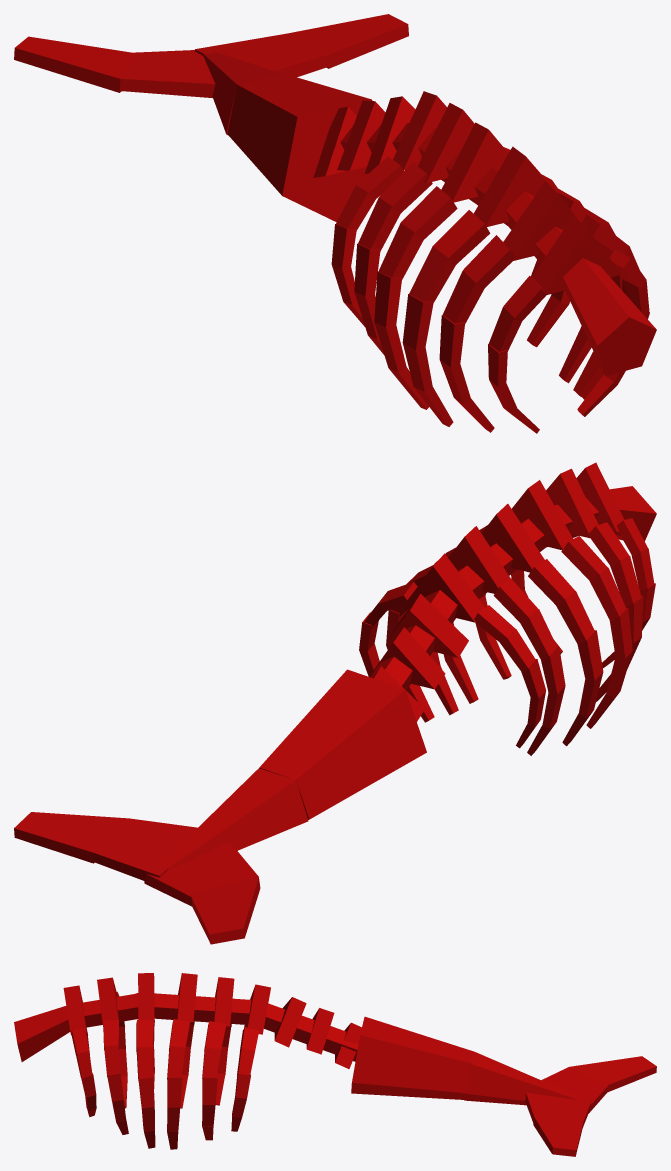
The model's file is SM_Prop_Whale_Skeleton_01_Collision.gltf.
3 renders of one model, top to bottom at view 1: azimuth 30°, elevation 25°; view 2: azimuth 150°, elevation 25°; view 3: azimuth 270°, elevation 25°, orthographic. The views are drawn at different scales.
Visible parts, largest first — view 1: SM_Prop_Whale_Skeleton_01_Collision; view 2: SM_Prop_Whale_Skeleton_01_Collision; view 3: SM_Prop_Whale_Skeleton_01_Collision.
Part boxes in pixels (x1,y1,x2,y2): SM_Prop_Whale_Skeleton_01_Collision: [14, 14, 656, 433]; SM_Prop_Whale_Skeleton_01_Collision: [14, 462, 656, 944]; SM_Prop_Whale_Skeleton_01_Collision: [14, 973, 656, 1156].
Bounding box in the file's own units: 8.31 × 6.12 × 22.76.
